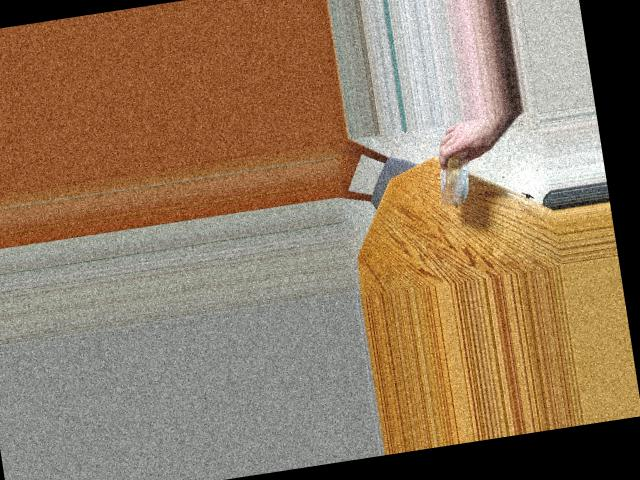cheese: (420, 132, 498, 209)
